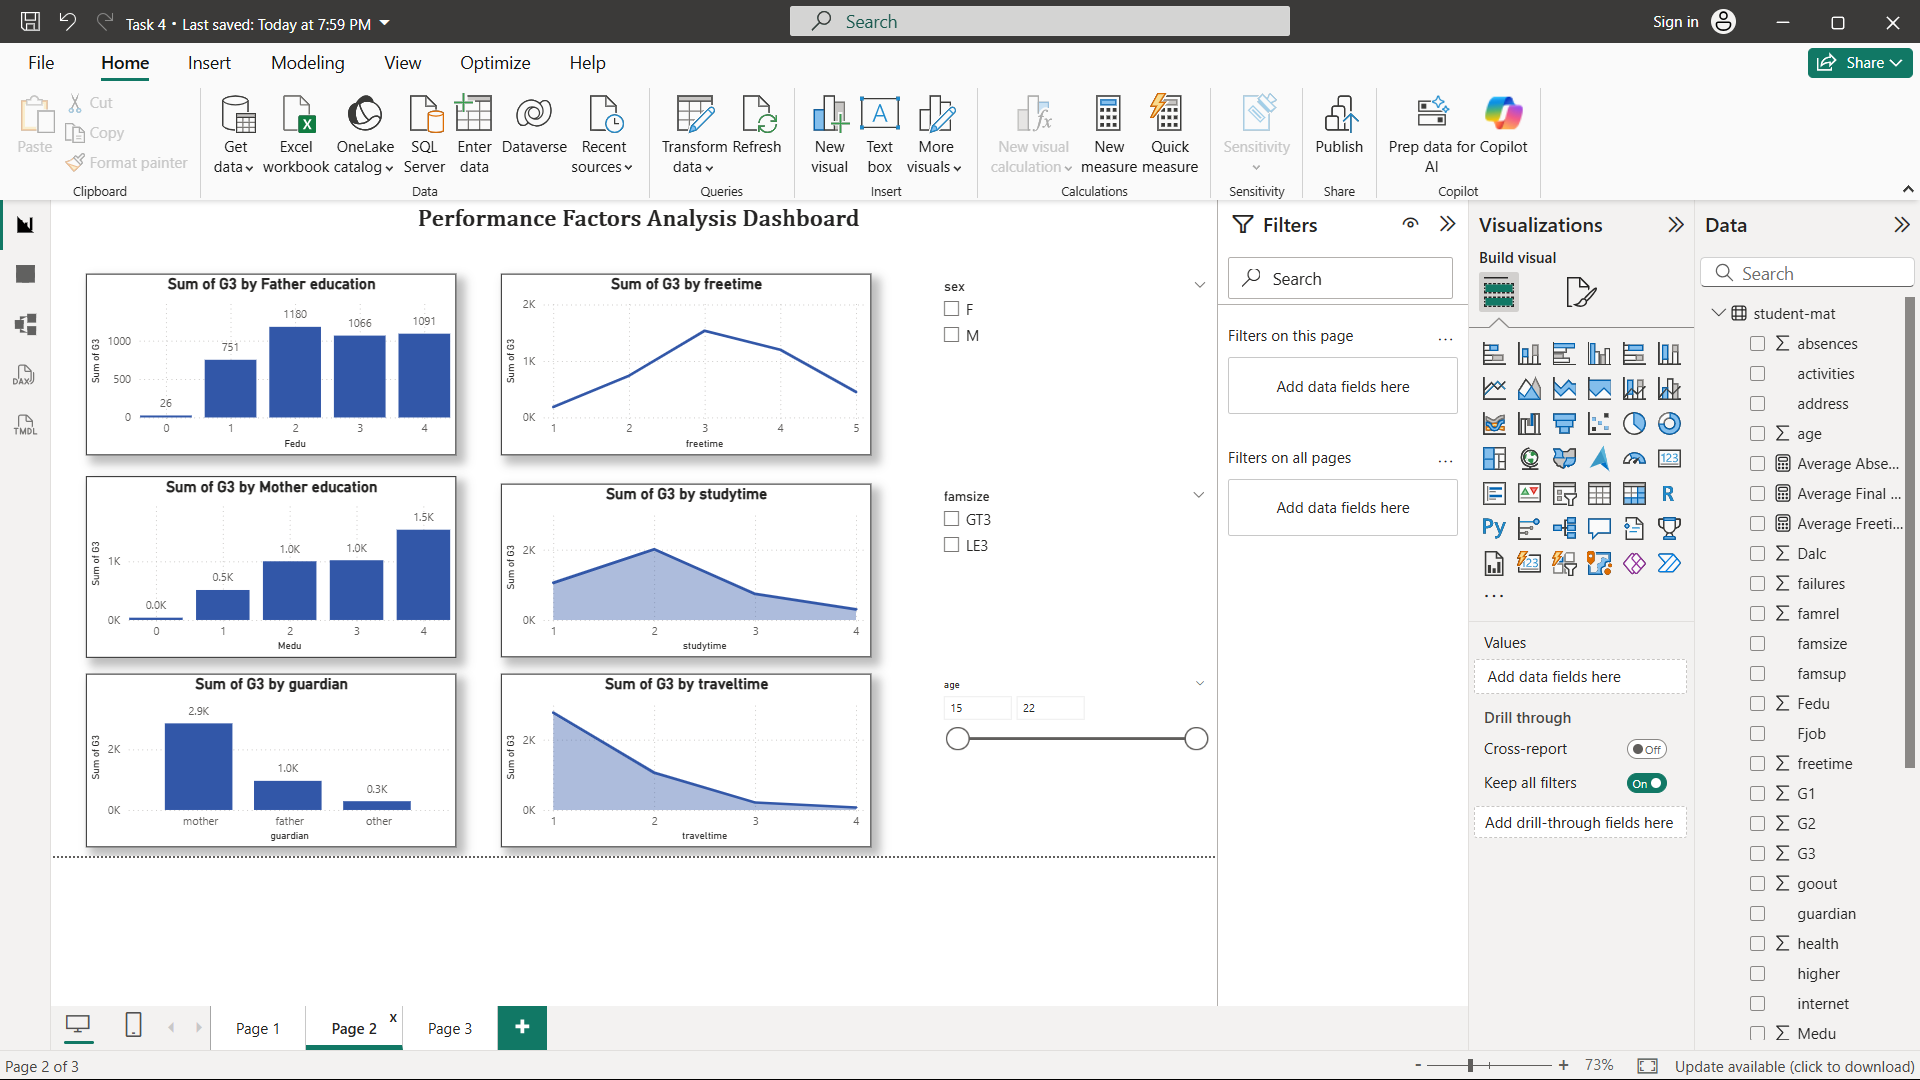

The page's visual inventory and layout, read from the dashboard file:
{"tool":"powerbi","page":{"name":"Page 2","canvas":[1280,720],"ordinal":1},"visuals":[{"type":"textbox","box":[9.6,0,1270.7,41.2],"z":0},{"type":"clusteredColumnChart","title":"Sum of G3 by Father education","fields":{"Category":["student-mat.Fedu"],"Y":["Sum(student-mat.G3)"]},"box":[38.4,81,406.2,199],"z":1},{"type":"columnChart","title":"Sum of G3 by Mother education","fields":{"Category":["student-mat.Medu"],"Y":["Sum(student-mat.G3)"]},"box":[38.4,303.3,406.2,199],"z":2},{"type":"areaChart","fields":{"Category":["student-mat.studytime"],"Y":["Sum(student-mat.G3)"]},"box":[494,311.5,406.2,190.7],"z":3},{"type":"lineChart","fields":{"Category":["student-mat.freetime"],"Y":["Sum(student-mat.G3)"]},"box":[494,81,406.2,199],"z":4},{"type":"areaChart","fields":{"Category":["student-mat.traveltime"],"Y":["Sum(student-mat.G3)"]},"box":[494,520.1,406.2,190.7],"z":5},{"type":"columnChart","fields":{"Category":["student-mat.guardian"],"Y":["Sum(student-mat.G3)"]},"box":[38.4,520.1,406.2,190.7],"z":6},{"type":"slicer","fields":{"Values":["student-mat.sex"]},"box":[967.4,81,312.9,100.2],"z":7},{"type":"slicer","fields":{"Values":["student-mat.famsize"]},"box":[967.4,311.5,311.5,122.1],"z":8},{"type":"slicer","fields":{"Values":["student-mat.age"]},"box":[967.4,520.1,311.5,141.3],"z":9}]}

Visuals, with their boxes on the page's 1280x720 design canvas (x1, y1, x2, y2). These are canvas units, not pixel positions in the 1920x1080 screenshot, which may show the page scaled, cropped or inside an application window:
textbox: <box>10,0,1280,41</box>
"Sum of G3 by Father education" clusteredColumnChart: <box>38,81,445,280</box>
"Sum of G3 by Mother education" columnChart: <box>38,303,445,502</box>
areaChart - student-mat.studytime x Sum(student-mat.G3): <box>494,312,900,502</box>
lineChart - student-mat.freetime x Sum(student-mat.G3): <box>494,81,900,280</box>
areaChart - student-mat.traveltime x Sum(student-mat.G3): <box>494,520,900,711</box>
columnChart - student-mat.guardian x Sum(student-mat.G3): <box>38,520,445,711</box>
slicer - student-mat.sex: <box>967,81,1280,181</box>
slicer - student-mat.famsize: <box>967,312,1279,434</box>
slicer - student-mat.age: <box>967,520,1279,661</box>
